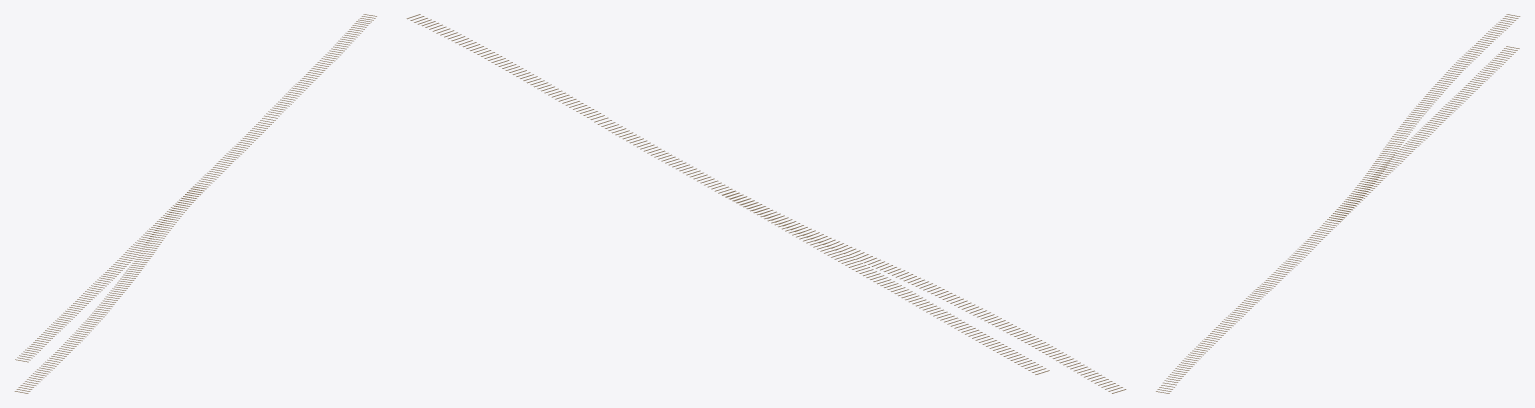
Rendered from c_1625_17830_rail_sleeper.glb.
3 renders of one model, left to right at view 1: azimuth 90°, elevation 25°; view 2: azimuth 150°, elevation 25°; view 3: azimuth 270°, elevation 25°, orthographic. The views are drawn at different scales.
Visible parts, largest first — view 1: geometry_0; view 2: geometry_0; view 3: geometry_0.
Part boxes in pixels (x1,y1,x2,y2): geometry_0: [14, 14, 376, 393]; geometry_0: [406, 14, 1126, 393]; geometry_0: [1156, 14, 1520, 393].
Size of the model in its own units: 143 by 0.3876 by 58.05.
